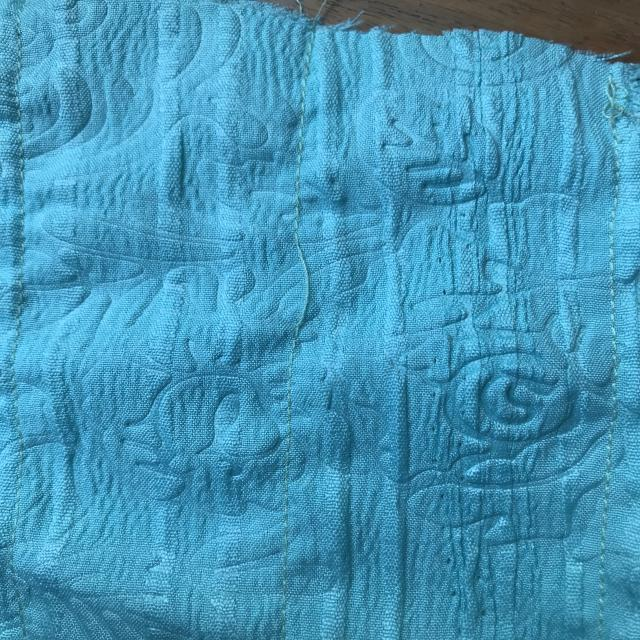good: (287, 125, 313, 200)
skip: (276, 222, 328, 354)
